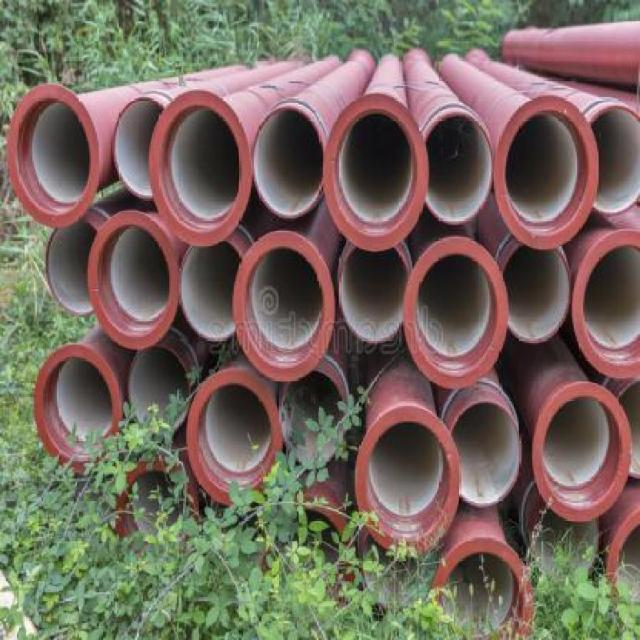pipe: (323, 93, 429, 250), (494, 95, 600, 251), (150, 89, 253, 246), (403, 235, 508, 388), (356, 405, 462, 556), (233, 231, 336, 382), (533, 380, 633, 522), (6, 83, 99, 228), (86, 209, 179, 348), (188, 370, 282, 505), (34, 343, 122, 471), (430, 538, 536, 640), (571, 229, 639, 380), (252, 106, 326, 219), (425, 111, 496, 225), (449, 400, 522, 508), (502, 245, 573, 345), (337, 246, 410, 343), (180, 240, 243, 340), (126, 345, 191, 434), (588, 103, 639, 216), (112, 97, 165, 199), (46, 220, 99, 316)
